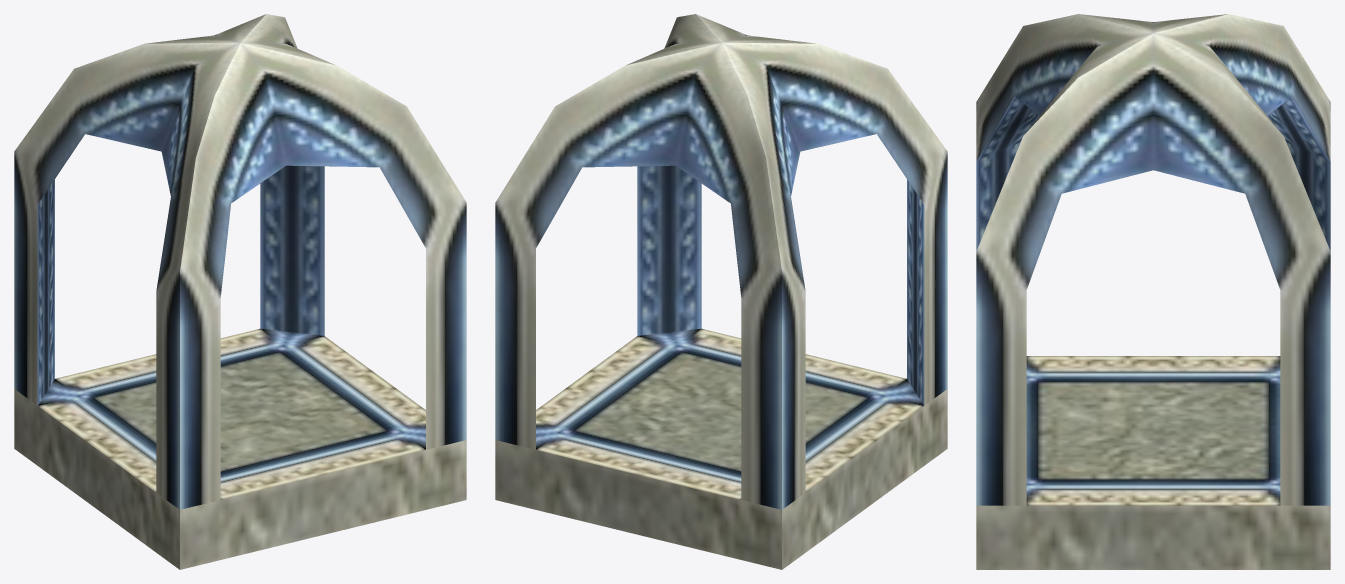
The model's file is lift.glb.
3 views of the same model, side by side, from view 1: azimuth 30°, elevation 25°; view 2: azimuth 150°, elevation 25°; view 3: azimuth 270°, elevation 25° (orthographic). The views are drawn at different scales.
Visible parts, largest first — view 1: lift; view 2: lift; view 3: lift.
Part boxes in pixels (left/top/right/bottom): lift: left=14, top=14, right=466, bottom=569; lift: left=495, top=14, right=947, bottom=569; lift: left=976, top=14, right=1330, bottom=569.
Size of the model in its own units: 5 by 7.19 by 5.
1 material, 1 textured.
